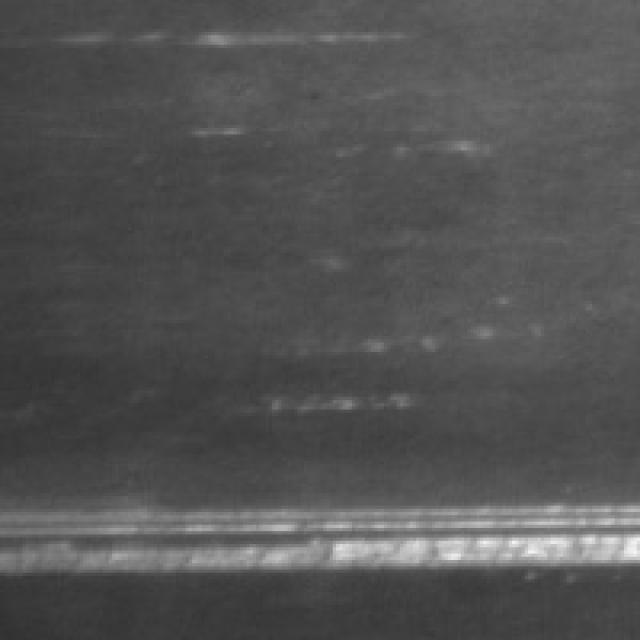scratches: (6, 480, 640, 573)
